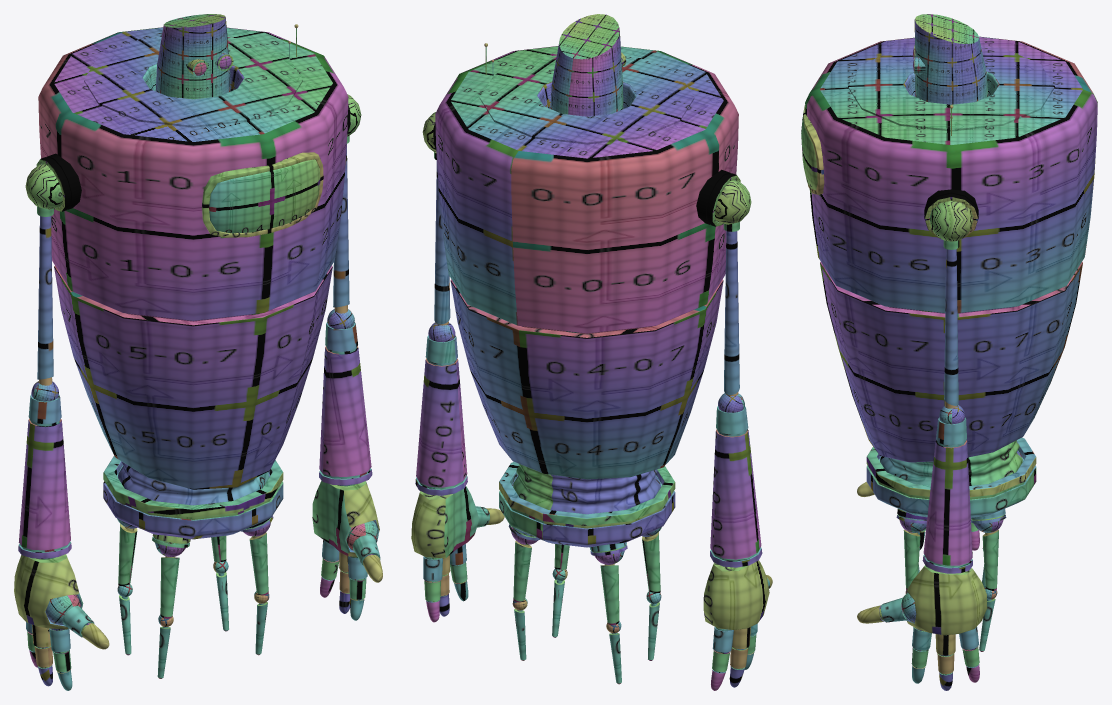
The model's file is RobotUVs.fbx.
The picture shows the model from 3 angles, left to right: view 1: azimuth 30°, elevation 25°; view 2: azimuth 150°, elevation 25°; view 3: azimuth 270°, elevation 25°; orthographic projection. The views are drawn at different scales.
Visible parts, largest first — view 1: Torso_Geo, R_Elbow_Geo, Hip_Geo, L_Elbow_Geo, Head_Geo, R_Shoulder_Geo, R_Hand_Geo, L_Hand_Geo, Spine_Geo, L_Shoulder_Geo, R_FT_Thigh_Geo, R_Finger_01_Joint_01_Geo (+7 smaller); view 2: Torso_Geo, Hip_Geo, R_Elbow_Geo, L_Elbow_Geo, Head_Geo, Spine_Geo, R_Hand_Geo, L_Hand_Geo, R_Shoulder_Geo, L_Shoulder_Geo, R_BK_Thigh_Geo, L_BK_Thigh_Geo (+5 smaller); view 3: Torso_Geo, L_Elbow_Geo, Head_Geo, Hip_Geo, L_Hand_Geo, L_Shoulder_Geo, Spine_Geo, L_BK_Thigh_Geo, L_FT_Thigh_Geo, L_Finger_01_Joint_01_Geo, L_BK_Knee_Geo.
Part boxes in pixels (x1=…): Torso_Geo: x1=36, y1=24, x2=350, y2=489; R_Elbow_Geo: x1=18, y1=381, x2=71, y2=558; Hip_Geo: x1=103, y1=456, x2=283, y2=547; L_Elbow_Geo: x1=319, y1=309, x2=372, y2=485; Head_Geo: x1=155, y1=14, x2=233, y2=99; R_Shoulder_Geo: x1=25, y1=164, x2=62, y2=385; R_Hand_Geo: x1=14, y1=554, x2=83, y2=629; L_Hand_Geo: x1=312, y1=481, x2=379, y2=556; Spine_Geo: x1=118, y1=461, x2=268, y2=505; L_Shoulder_Geo: x1=333, y1=94, x2=361, y2=313; R_FT_Thigh_Geo: x1=155, y1=543, x2=185, y2=618; R_Finger_01_Joint_01_Geo: x1=45, y1=594, x2=94, y2=637; Torso_Geo: x1=433, y1=43, x2=740, y2=479; Hip_Geo: x1=499, y1=462, x2=675, y2=555; R_Elbow_Geo: x1=710, y1=393, x2=762, y2=567; L_Elbow_Geo: x1=415, y1=322, x2=467, y2=495; Head_Geo: x1=550, y1=14, x2=626, y2=116; Spine_Geo: x1=513, y1=464, x2=660, y2=514; R_Hand_Geo: x1=703, y1=560, x2=769, y2=630; L_Hand_Geo: x1=411, y1=486, x2=478, y2=558; R_Shoulder_Geo: x1=715, y1=180, x2=751, y2=396; L_Shoulder_Geo: x1=422, y1=112, x2=450, y2=325; R_BK_Thigh_Geo: x1=594, y1=551, x2=624, y2=625; L_BK_Thigh_Geo: x1=511, y1=531, x2=538, y2=602; Torso_Geo: x1=801, y1=36, x2=1097, y2=462; L_Elbow_Geo: x1=922, y1=405, x2=972, y2=573; Head_Geo: x1=913, y1=14, x2=988, y2=104; Hip_Geo: x1=866, y1=437, x2=1036, y2=523; L_Hand_Geo: x1=907, y1=565, x2=987, y2=635; L_Shoulder_Geo: x1=930, y1=200, x2=972, y2=408; Spine_Geo: x1=880, y1=440, x2=1022, y2=485; L_BK_Thigh_Geo: x1=974, y1=520, x2=1003, y2=590; L_FT_Thigh_Geo: x1=899, y1=520, x2=926, y2=590; L_Finger_01_Joint_01_Geo: x1=881, y1=592, x2=916, y2=622; L_BK_Knee_Geo: x1=979, y1=587, x2=997, y2=651.
Size of the model in its own units: 9.14 by 16.07 by 7.09.
3 materials, 3 textured.
